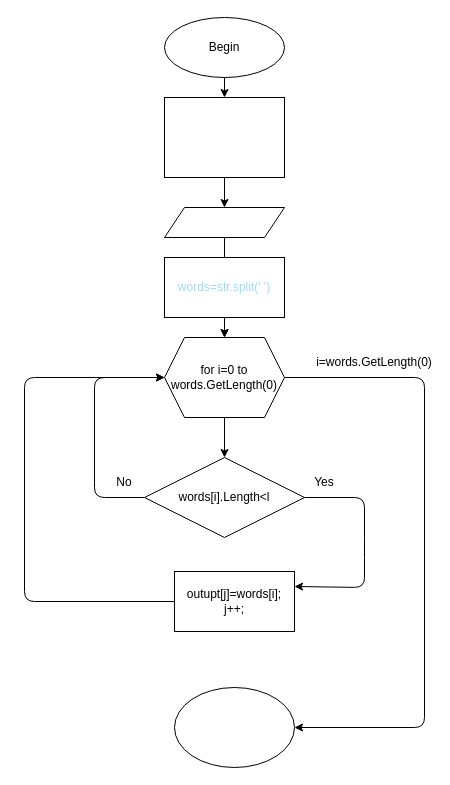
Some shapes in this 450 by 785 pixel diagram are drawn without their labels. Each missing label, with the centre of its shape:
"End" belongs at point (234, 727).
"str" belongs at point (224, 222).
"string str string[] words string[] output int l=3 int i, j=0" belongs at point (224, 137).
